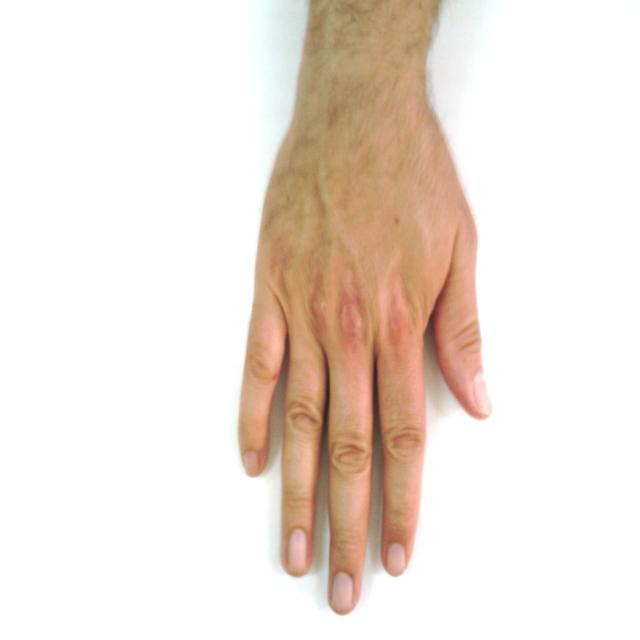Fingernail: (288, 530, 308, 574), (332, 572, 353, 613), (475, 373, 492, 414), (386, 544, 406, 575), (245, 452, 259, 475)
